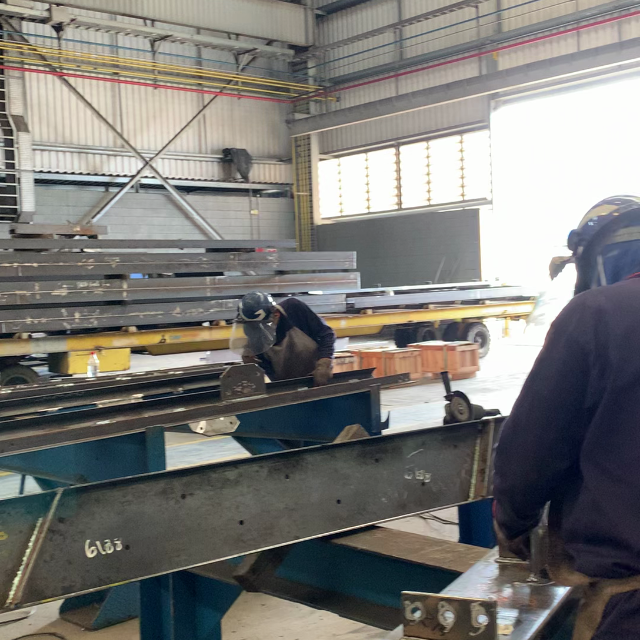face-shield: (521, 258, 577, 323), (230, 320, 279, 353)
glove: (309, 357, 336, 389)
helmet: (565, 194, 640, 251), (236, 291, 276, 322)
person: (492, 194, 638, 638), (231, 290, 338, 385)
